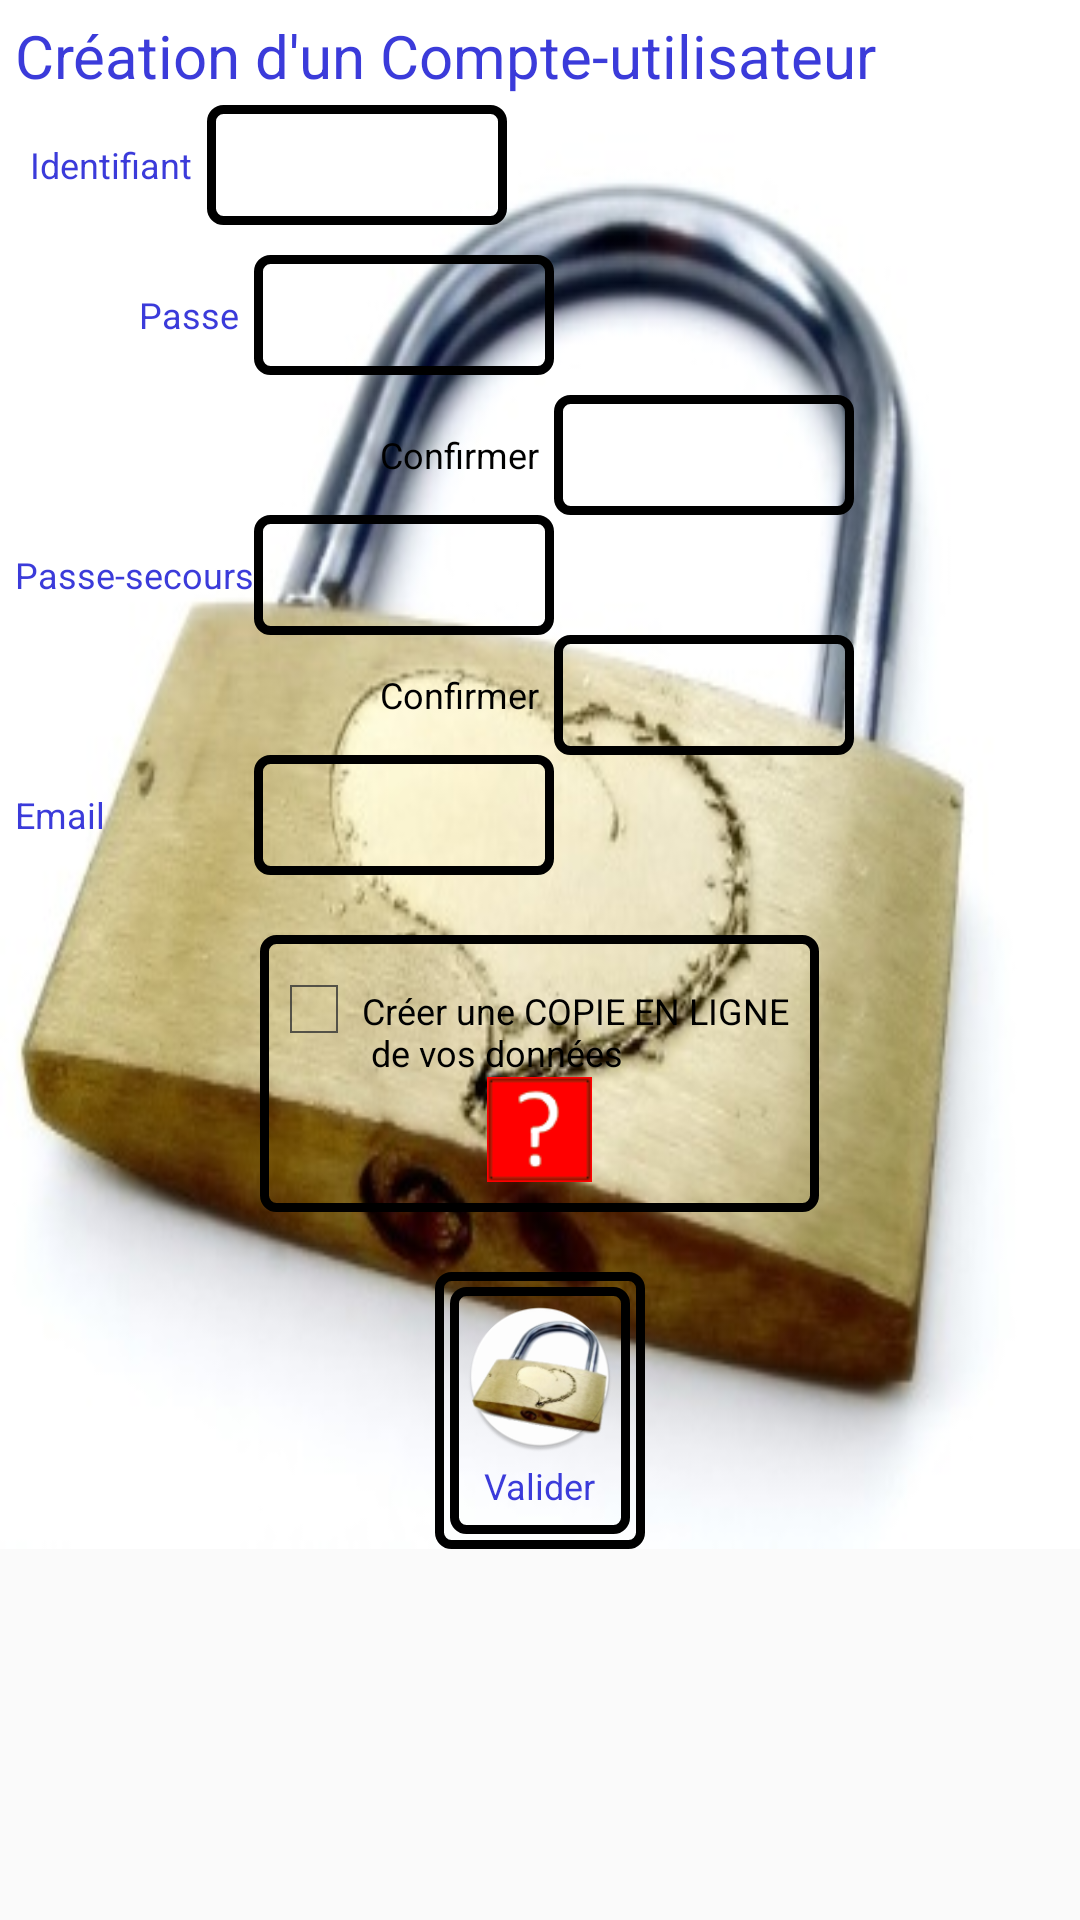

Screen size 1080*1920. Icon name, then its center in pixels as [x,y]:
Aide: [539,1129]
